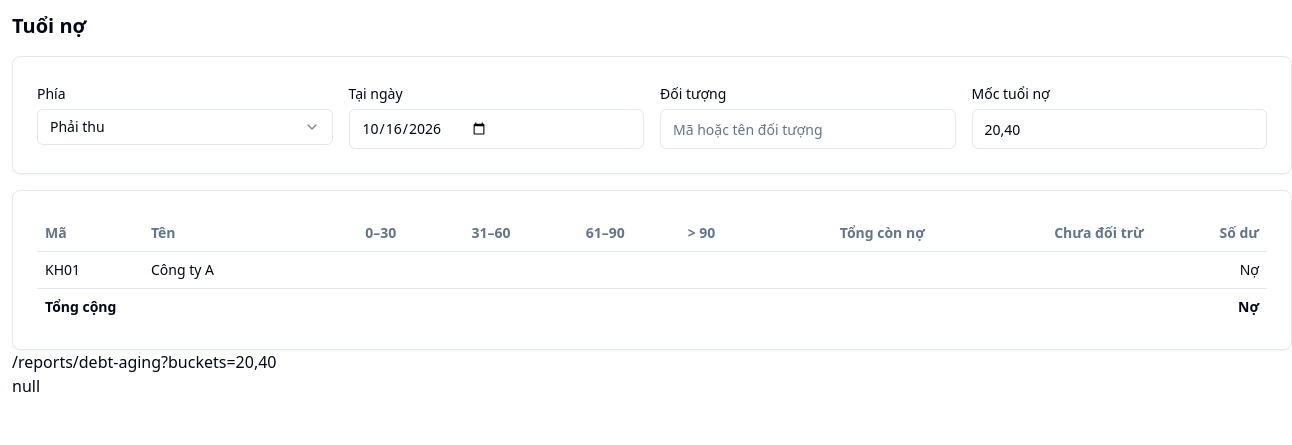
DebtAgingPage › invalid typed buckets show the error and keep the previous url value
Step 1. Replace the text in the field labelled "Mốc tuổi nợ" with "45,15" → [1119, 129], box [972,109,1267,149]
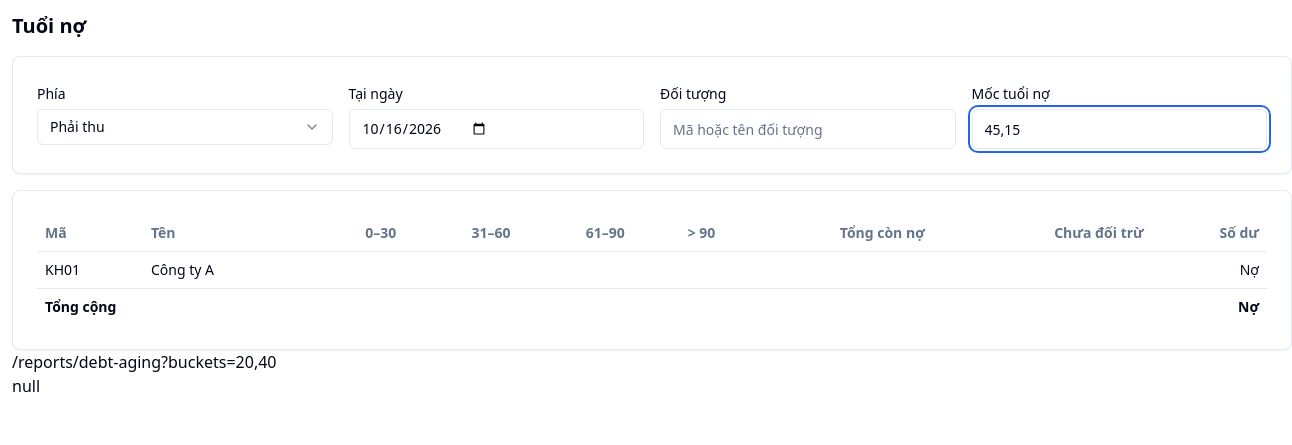
Step 2. Press Tab
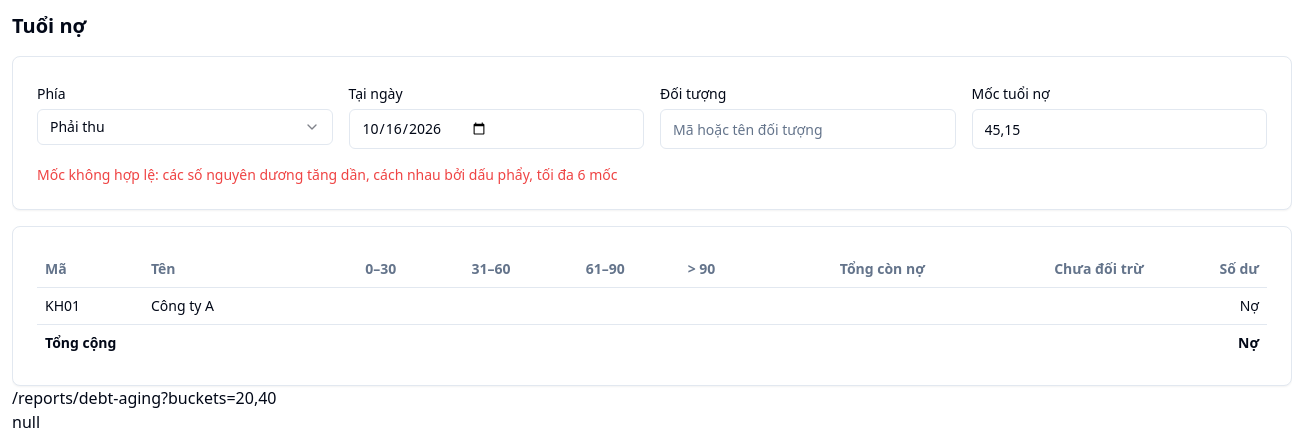
Check: the text with test id "location" shows "buckets=20,40", box [12,387,276,409]
Check: the text "Mốc không hợp lệ: các số nguyên dương tăng dần, cách nhau bởi dấu phẩy, tối đa 6 mốc" is shown, box [37,165,618,184]
